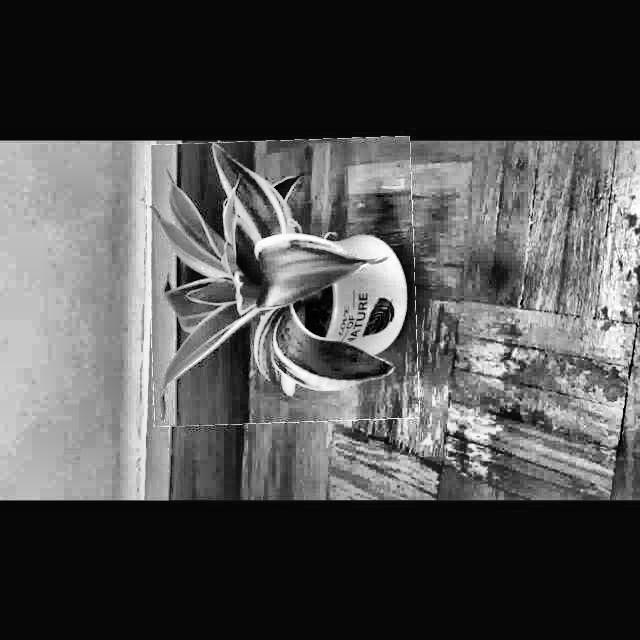plants: (148, 138, 418, 424)
